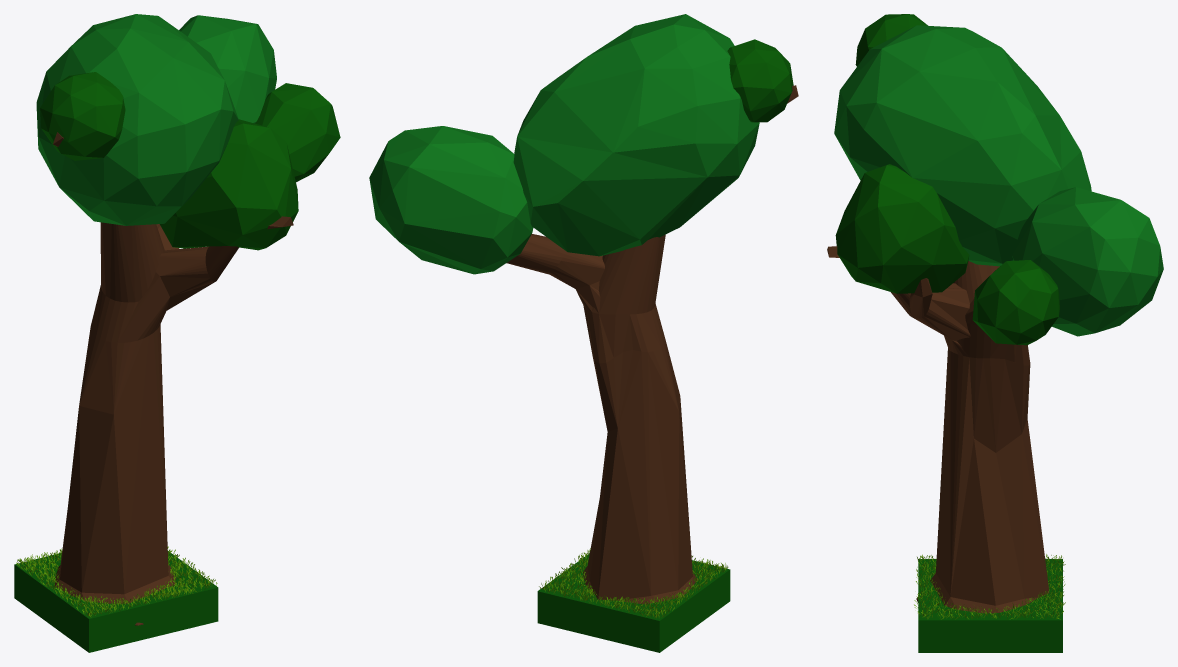
File: tree.fbx
The picture shows the model from 3 angles, left to right: view 1: azimuth 30°, elevation 25°; view 2: azimuth 150°, elevation 25°; view 3: azimuth 270°, elevation 25°; orthographic projection. The views are drawn at different scales.
Visible parts, largest first — view 1: treeplane|Plane.005|Dupli|2910; view 2: treeplane|Plane.005|Dupli|2910; view 3: treeplane|Plane.005|Dupli|2910.
Boxes of the visible parts, x1,y1,x2,y2 form: treeplane|Plane.005|Dupli|2910: (14, 14, 340, 652); treeplane|Plane.005|Dupli|2910: (369, 14, 798, 652); treeplane|Plane.005|Dupli|2910: (827, 14, 1163, 652).
Bounding box in the file's own units: 270 × 447 × 233.
